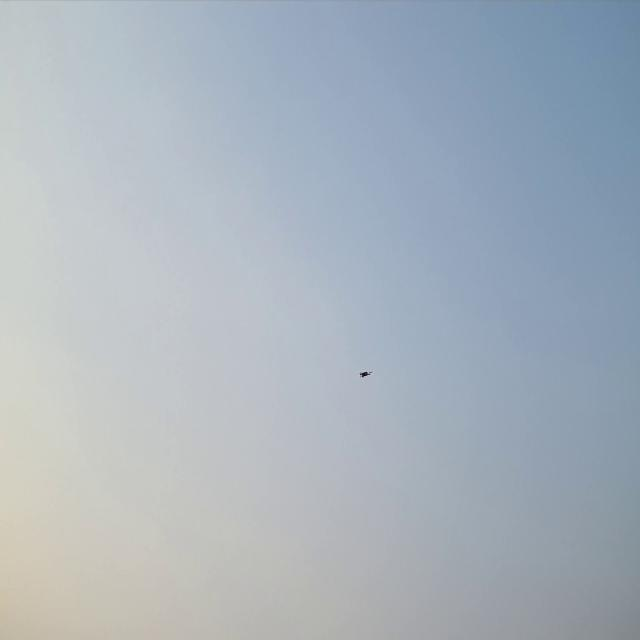UAV: (358, 369, 373, 379)
